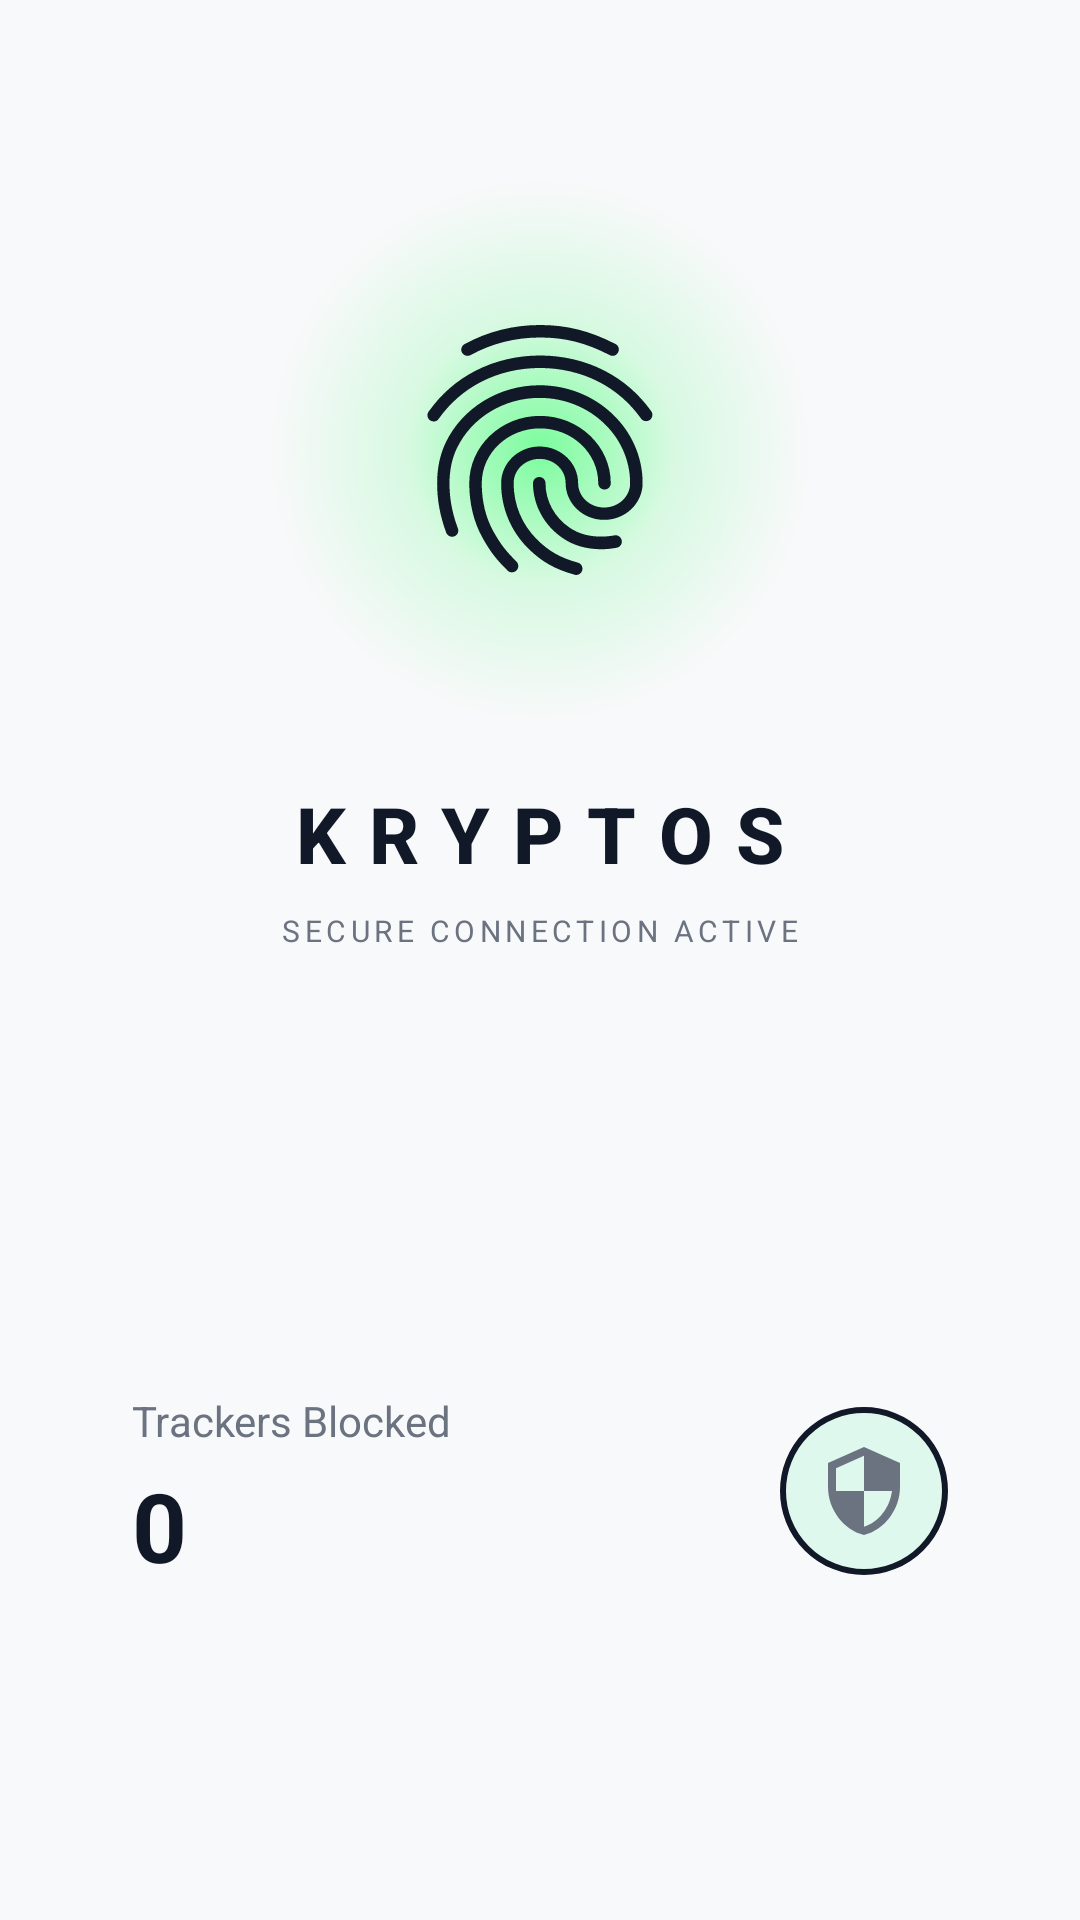

Named icons in this screenshot (1080px×1920px) and their centers, (x,y):
fingerprint: (540,450)
shield: (864,1491)
